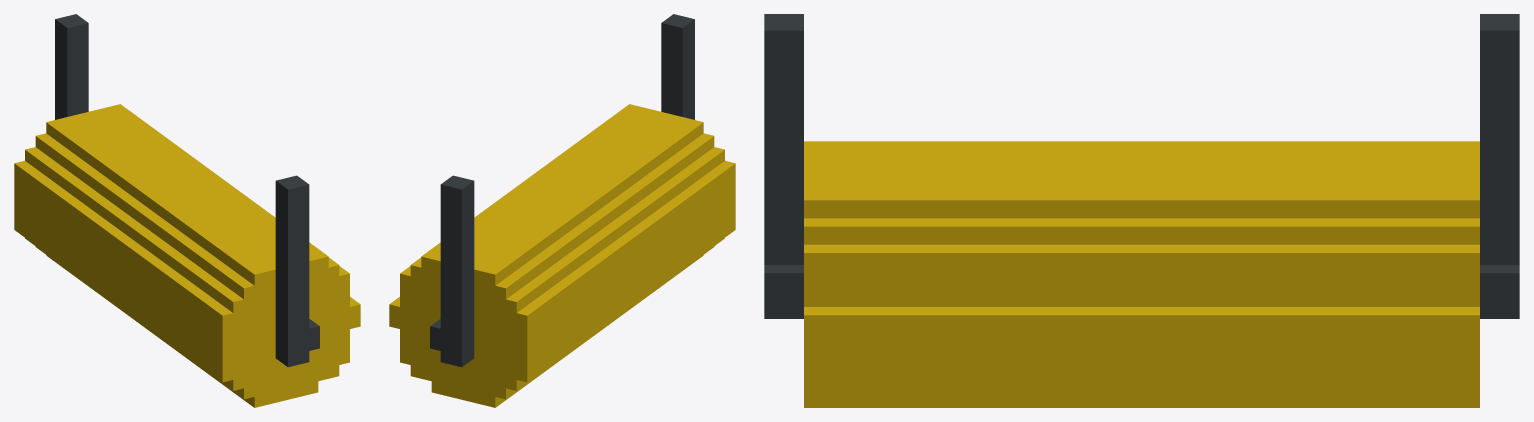
Rendered from street_sweeper_main_broom.glb.
The picture shows the model from 3 angles, left to right: view 1: azimuth 30°, elevation 25°; view 2: azimuth 150°, elevation 25°; view 3: azimuth 270°, elevation 25°; orthographic projection. The views are drawn at different scales.
Parts seen in each view (by area): view 1: body:compound; view 2: body:compound; view 3: body:compound.
Part boxes in pixels (x1,y1,x2,y2): body:compound: (14, 14, 360, 407); body:compound: (389, 14, 735, 407); body:compound: (764, 14, 1519, 407).
Size of the model in its own units: 0.4062 by 0.625 by 1.19.
